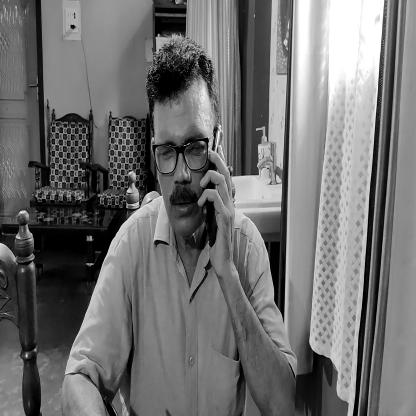Normal: (149, 34, 214, 237)
